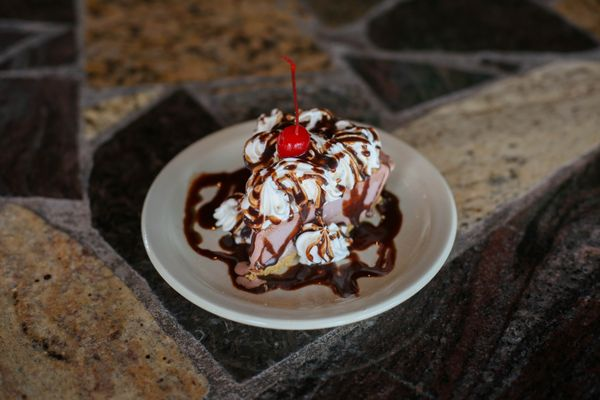curry: (10, 9, 597, 391)
sushi: (228, 102, 402, 298)
